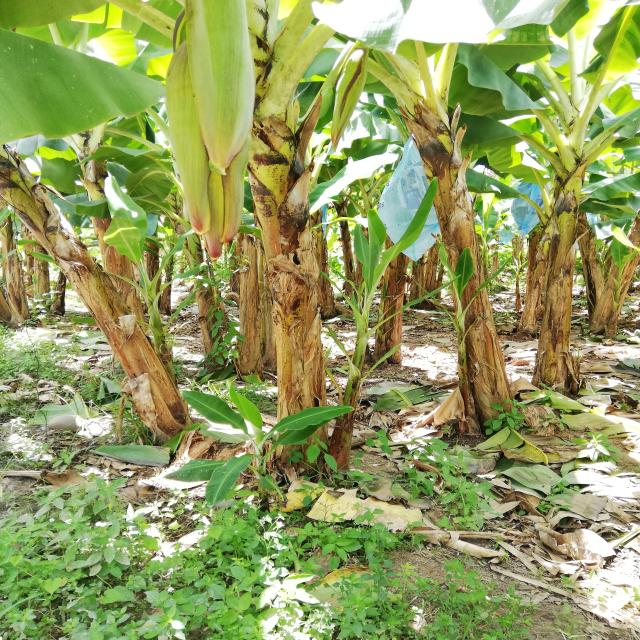Banana-plant: (0, 131, 197, 438), (375, 58, 520, 436), (256, 46, 339, 485), (527, 89, 599, 401)
